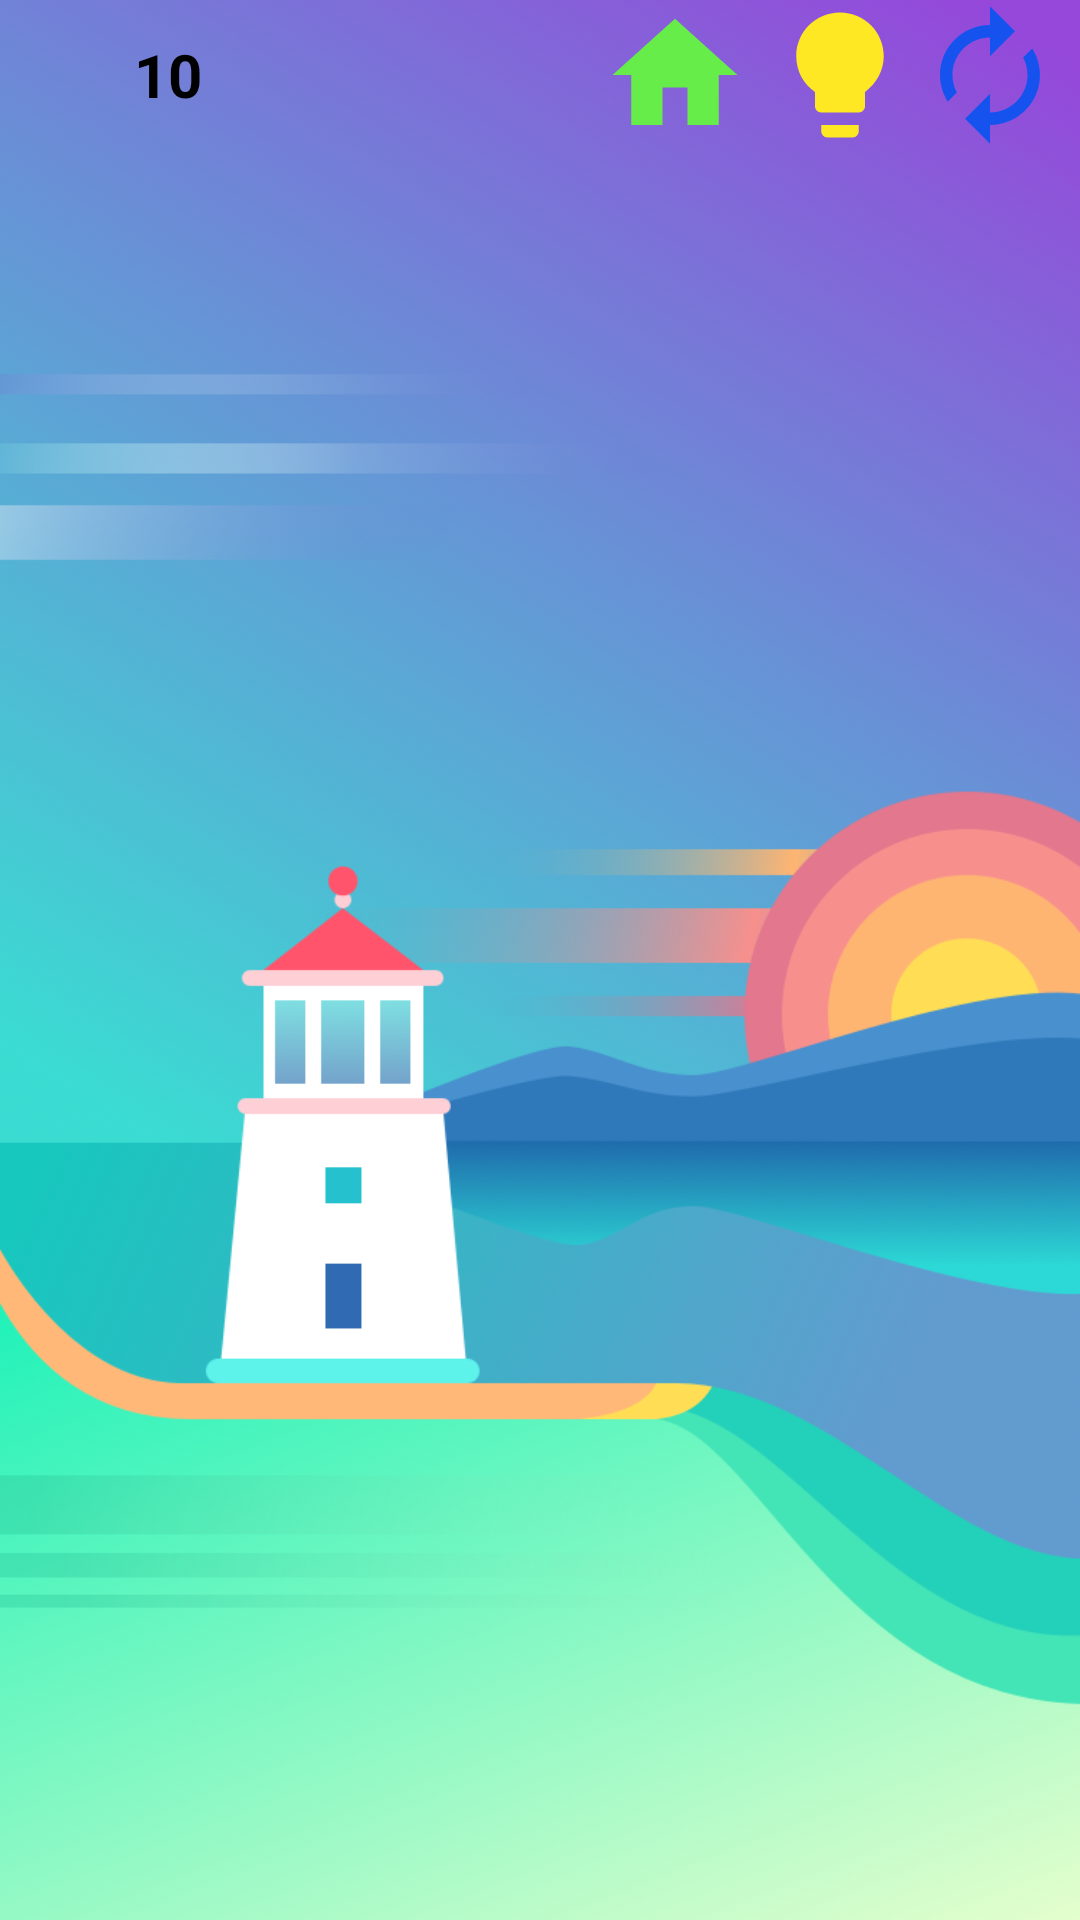

Where to tap for icons on this 1080 × 1920 app screen, as (x=x, y=y):
autorenew: (x=990, y=75)
home: (x=675, y=72)
lightbulb: (x=840, y=75)
